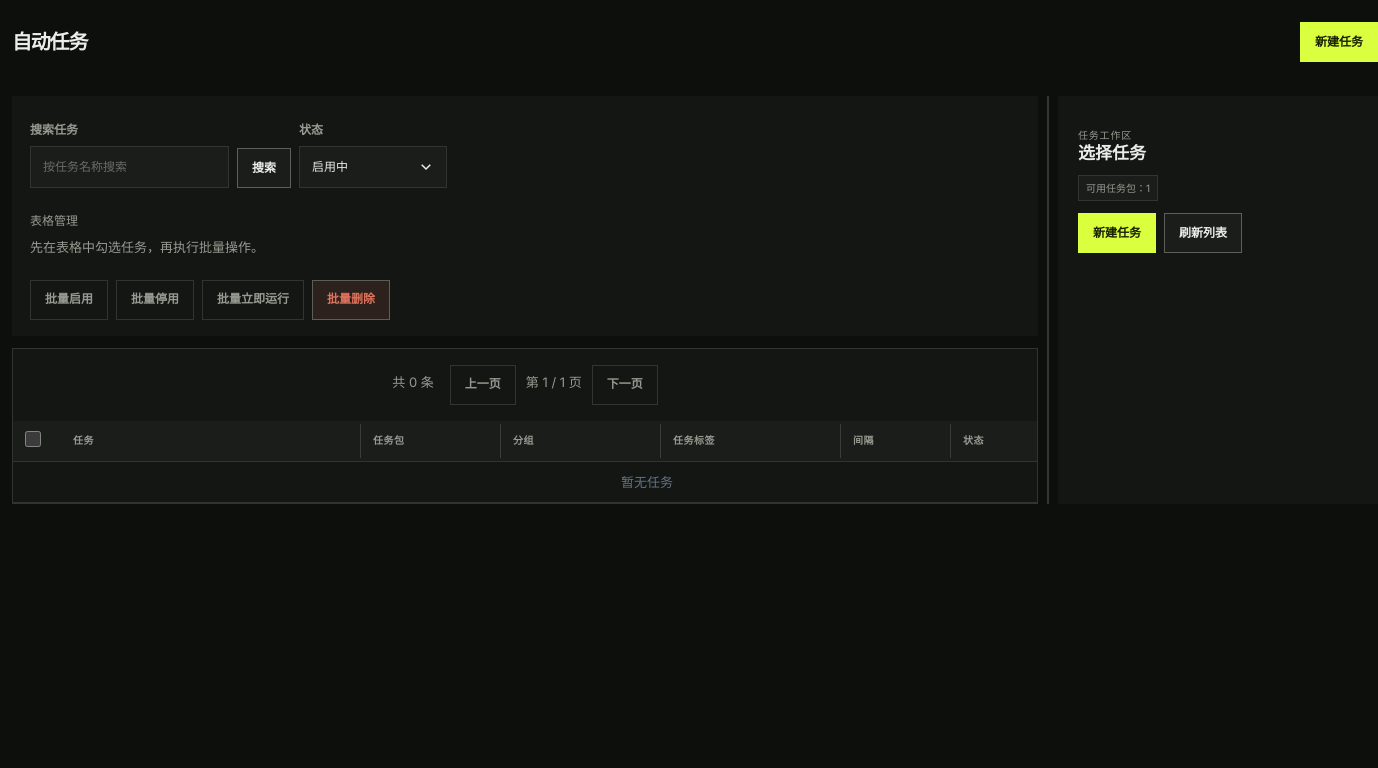
Test case: JobsPage › renders a current-task hero for create mode
Click the button with test id "create-job-button".
click(1339, 42)  # box [1300, 22, 1377, 62]
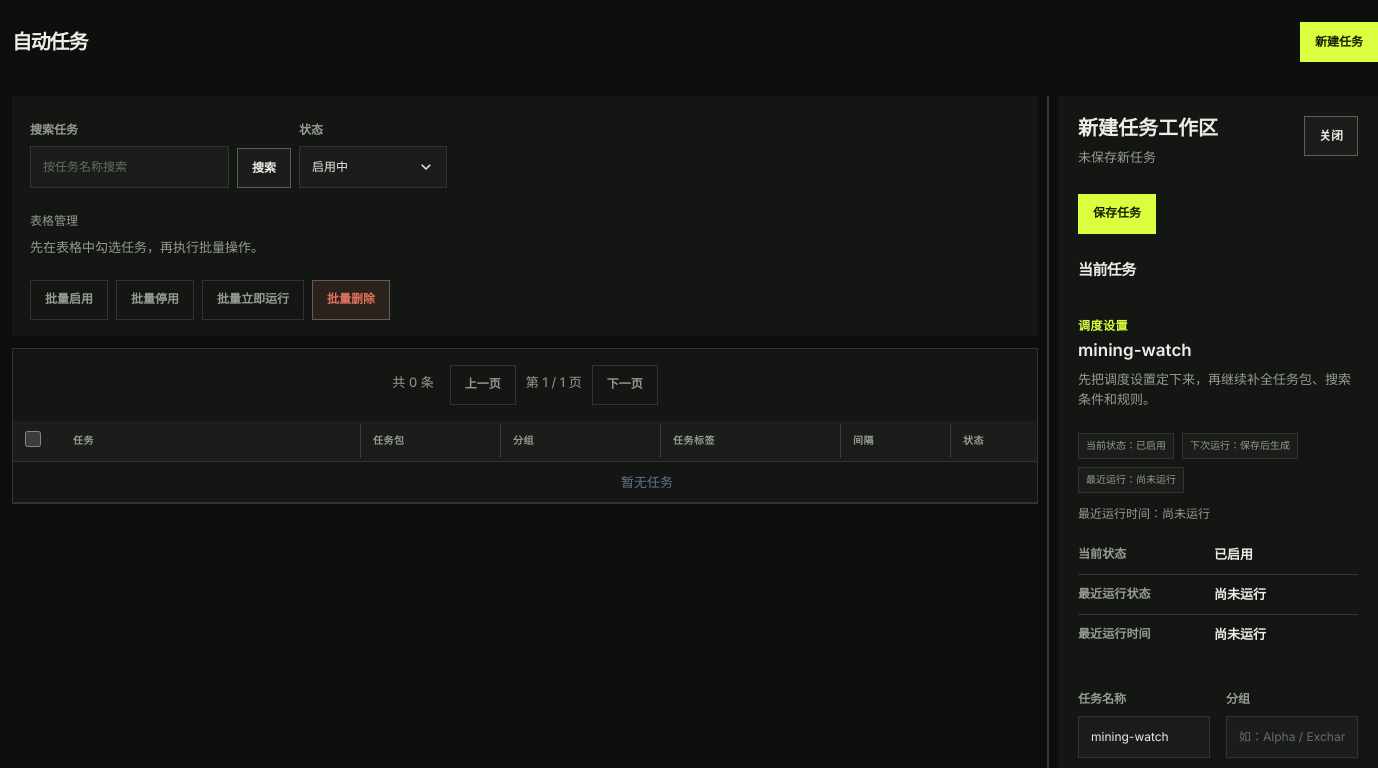
Now the text "当前状态：已启用" is shown, box [1078, 433, 1174, 459]
Now the text "下次运行：保存后生成" is shown, box [1182, 433, 1298, 459]
Now the text "最近运行：尚未运行" is shown, box [1078, 467, 1184, 493]
